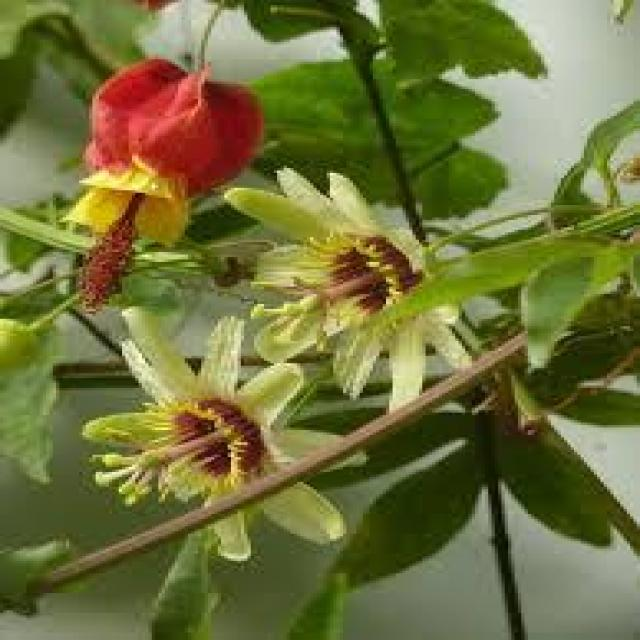organic waste: (193, 165, 615, 402), (66, 308, 406, 567), (36, 31, 215, 327)
